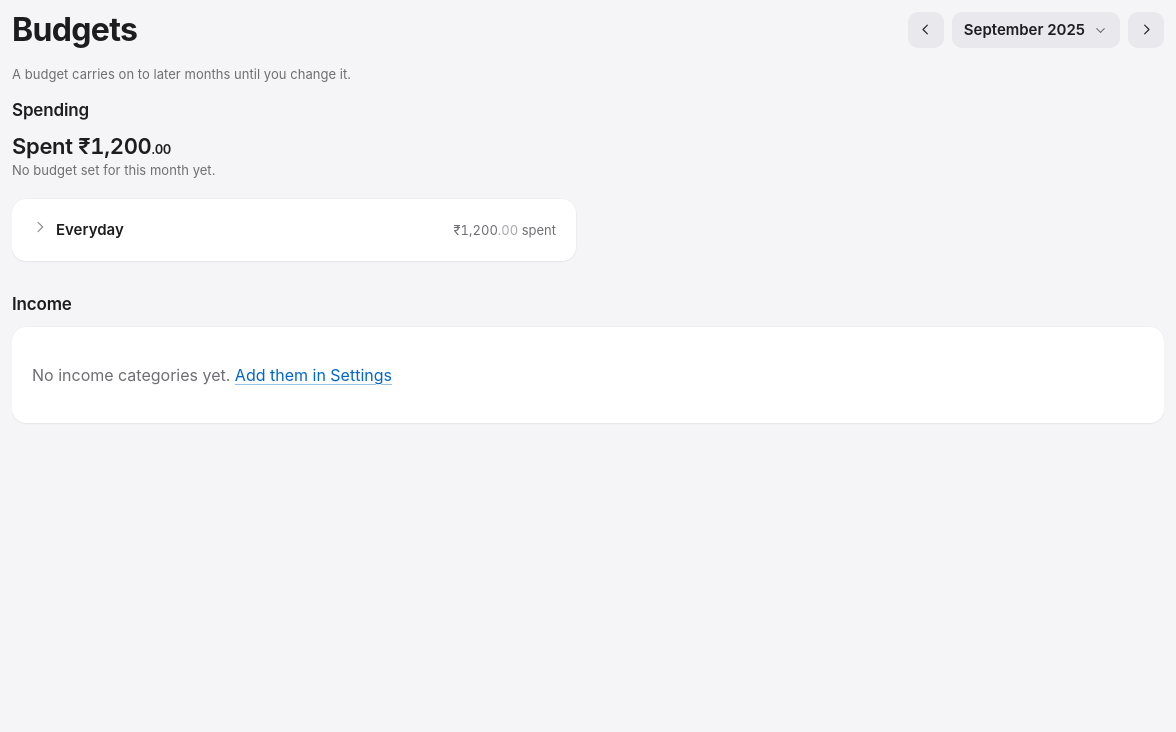
Test: says a past month saves for that month only, with no choice
Replace the text in the field labelled "—" with "100": x=294, y=230 [12,199,576,261]
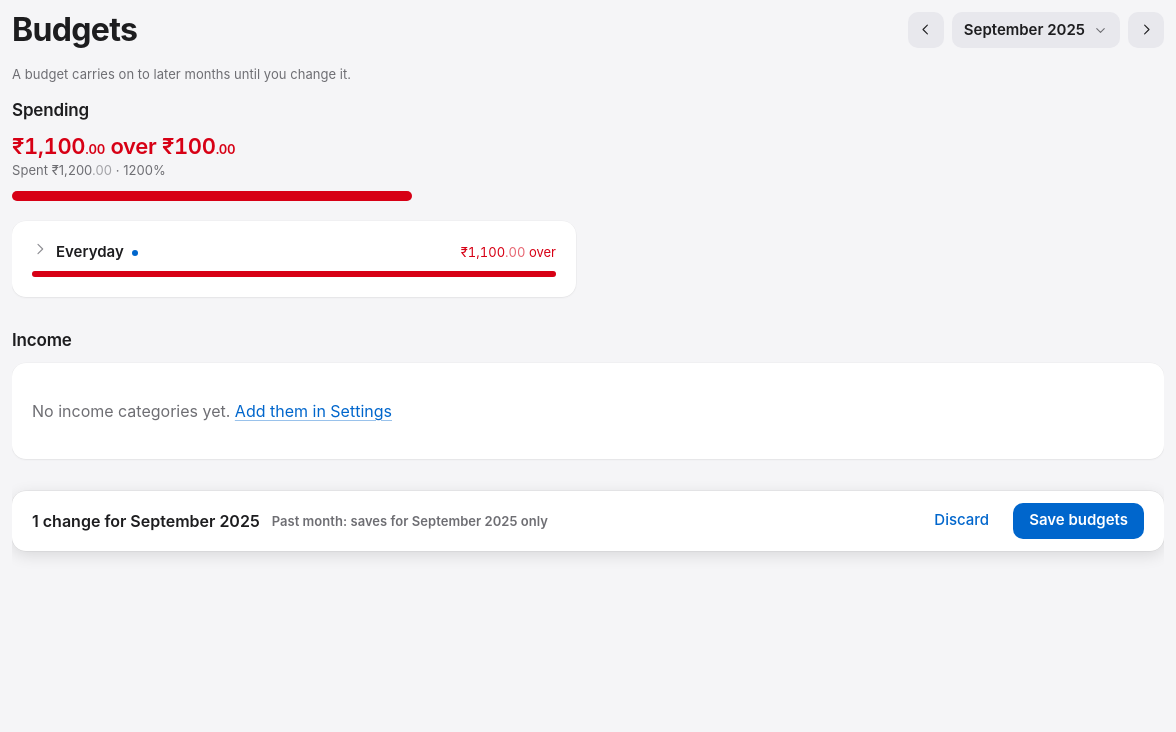
Expected: the text "Past month: saves for September 2025 only" is shown, [272,512,548,530]
